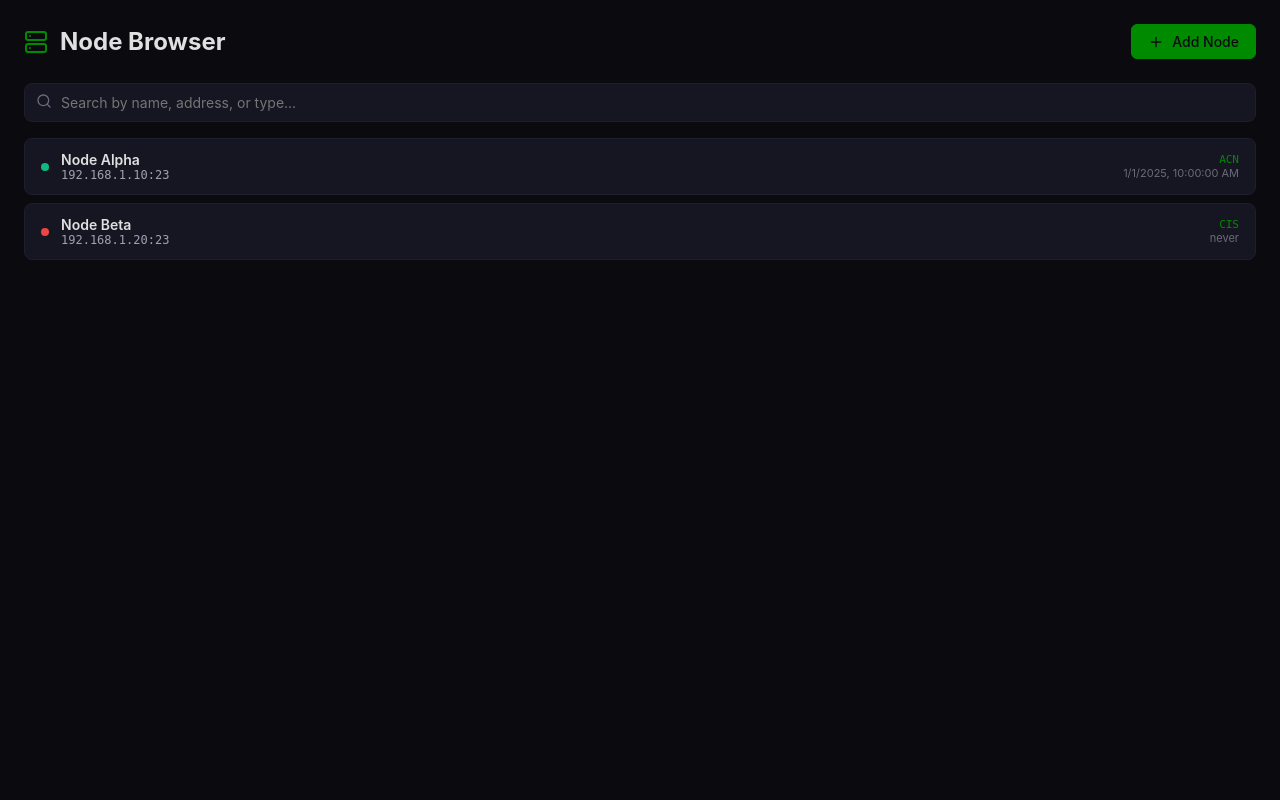
it: NodeBrowser › shows connect error when POST fails
The width and height of the screenshot is (1280, 800).
Expected: the text "Node Alpha" is shown, 61,151 -> 140,168
Click the button "Add Node" at (1194, 42), box 1131,24 -> 1256,59
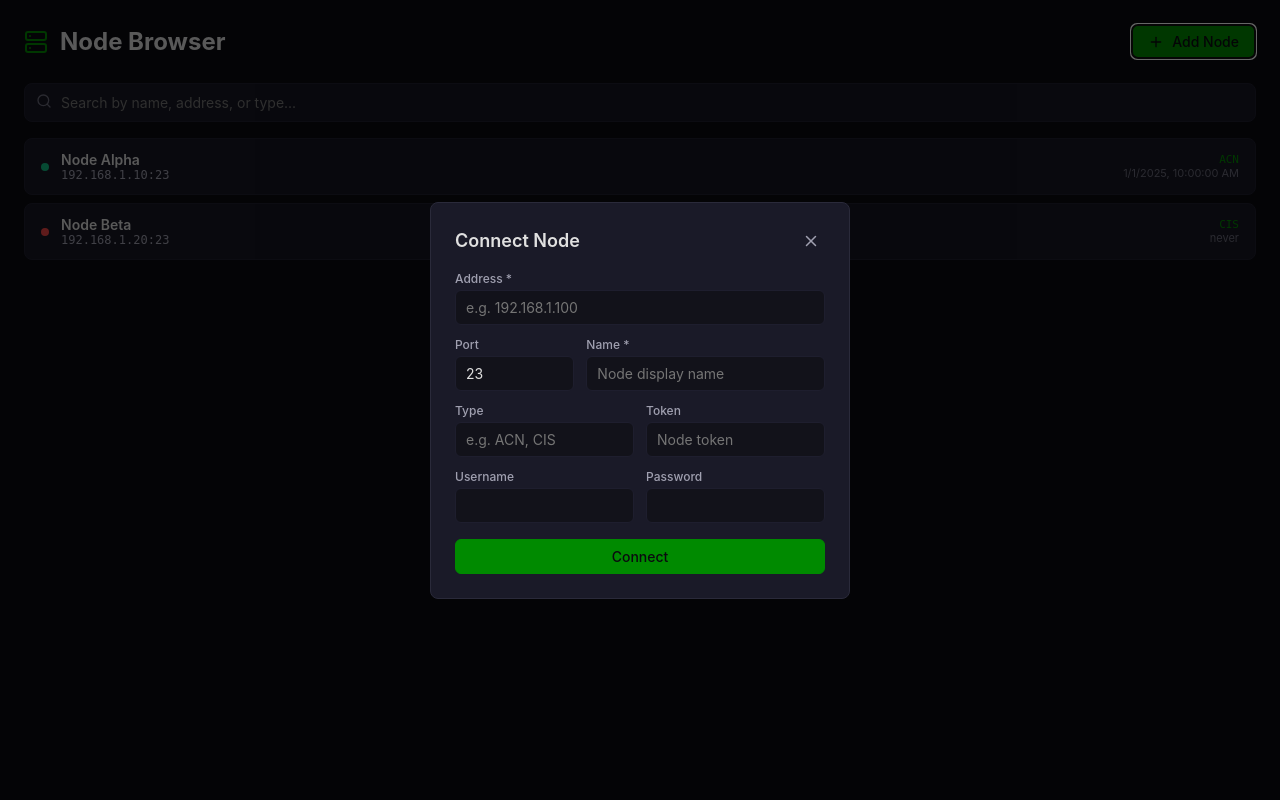
Type "10.0.0.5" into the field with placeholder "e.g. 192.168.1.100" at (640, 307), box 455,290 -> 825,324
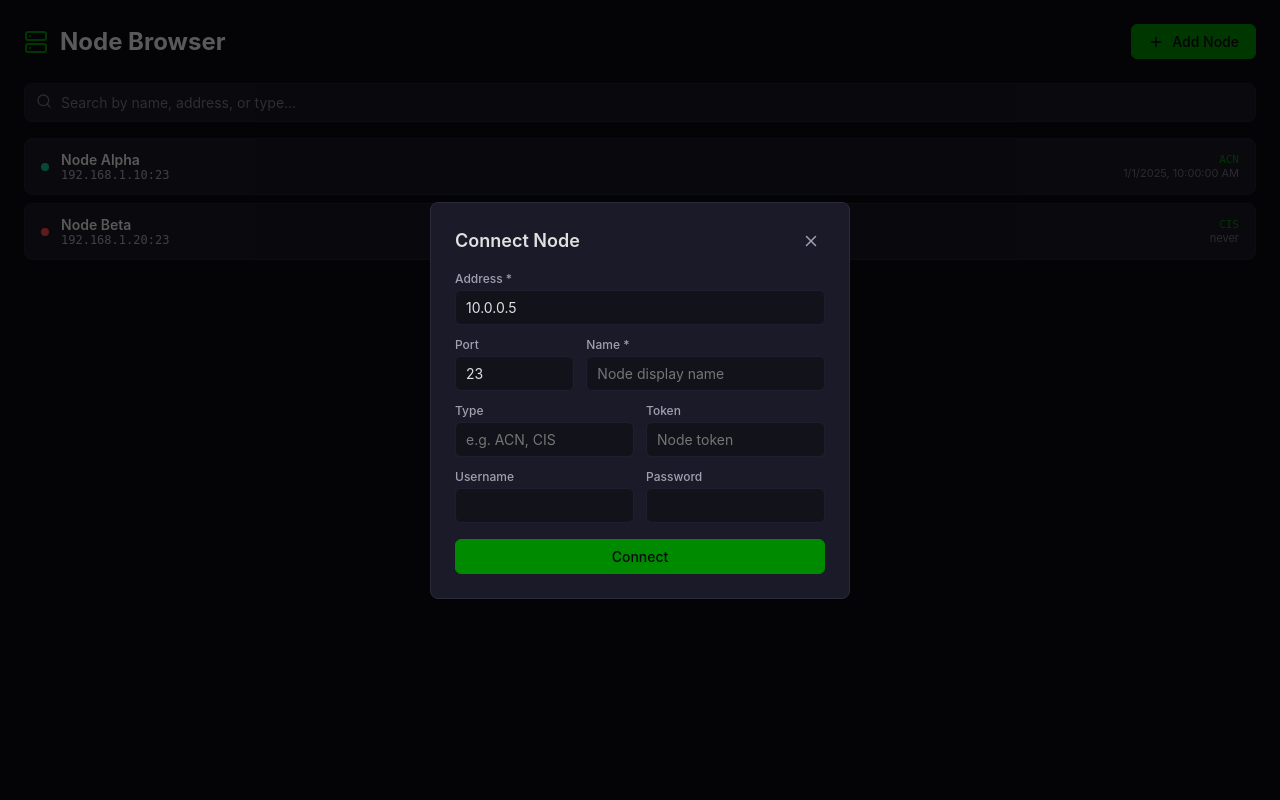
Type "New" into the field with placeholder "Node display name" at (706, 373), box 586,356 -> 825,390
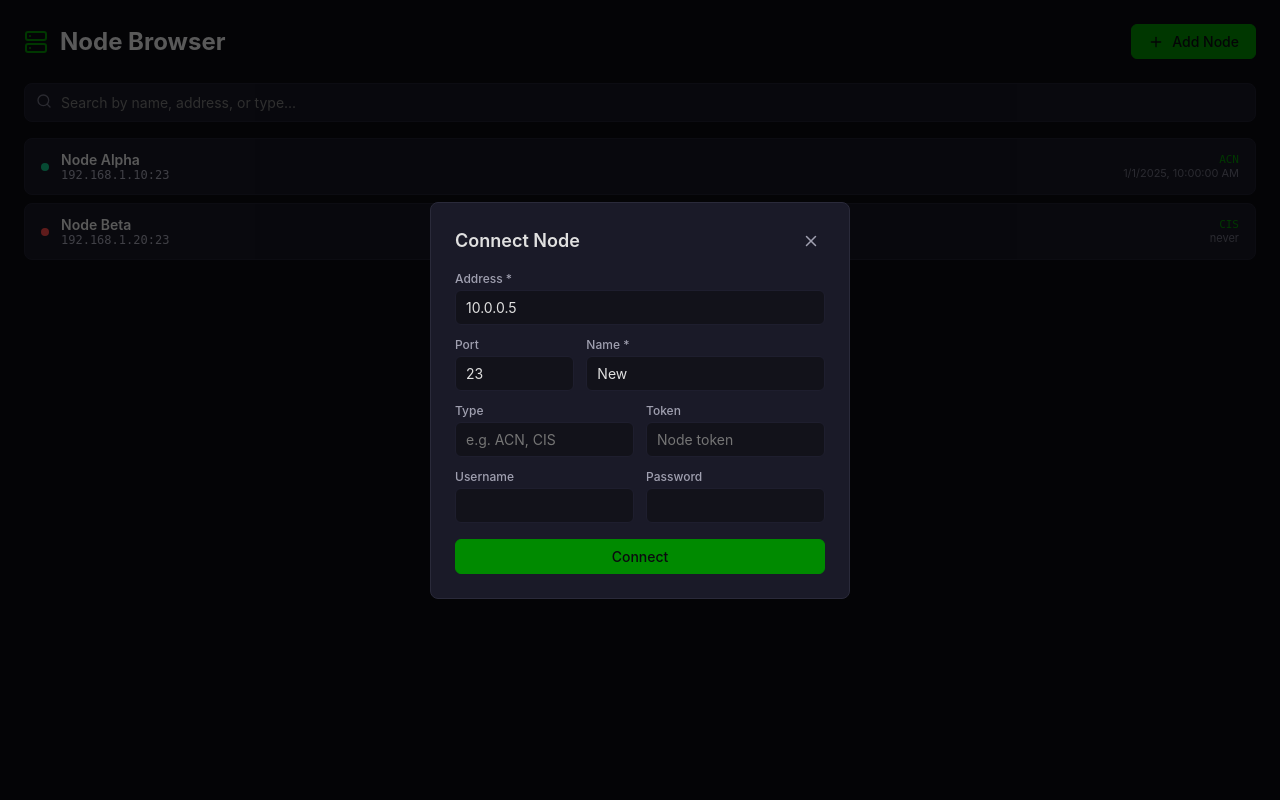
Click the button "Connect" at (640, 556), box 455,538 -> 825,574
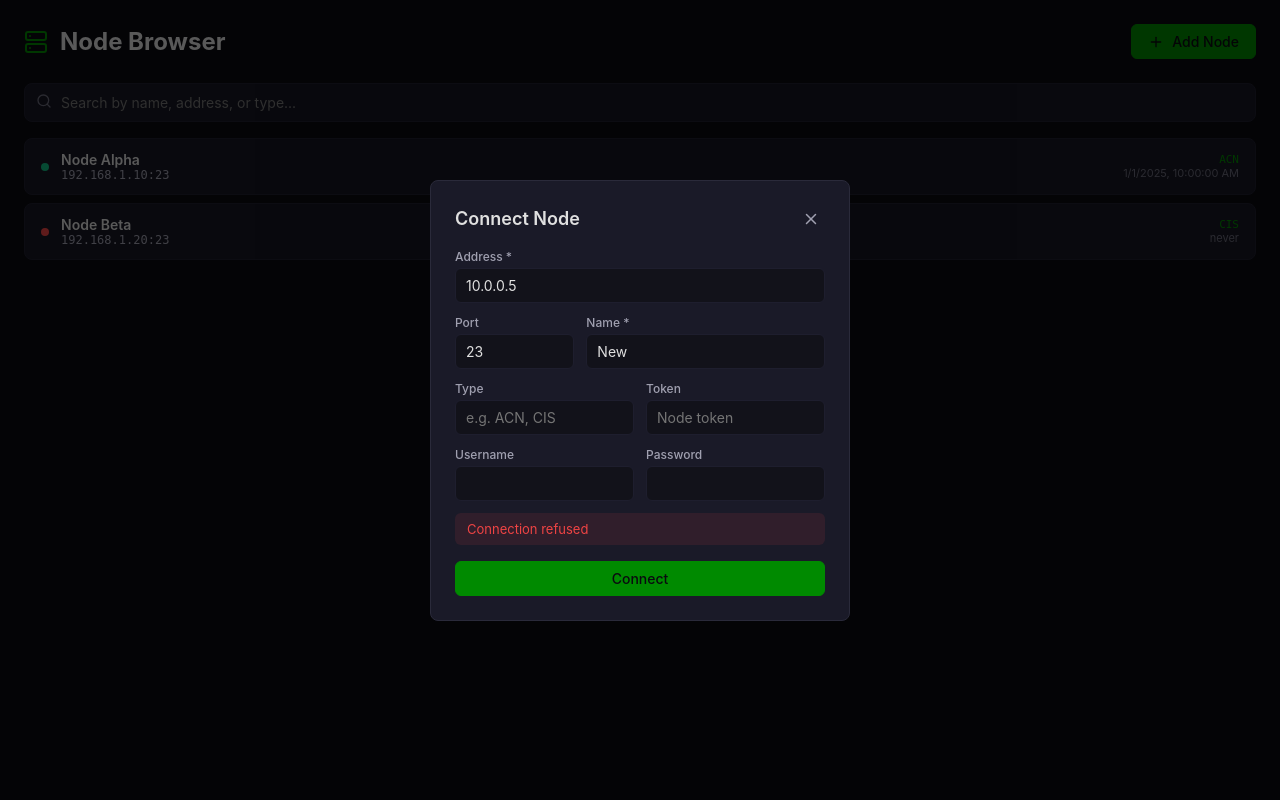
Expected: the text "Connection refused" is shown, 455,512 -> 825,544
